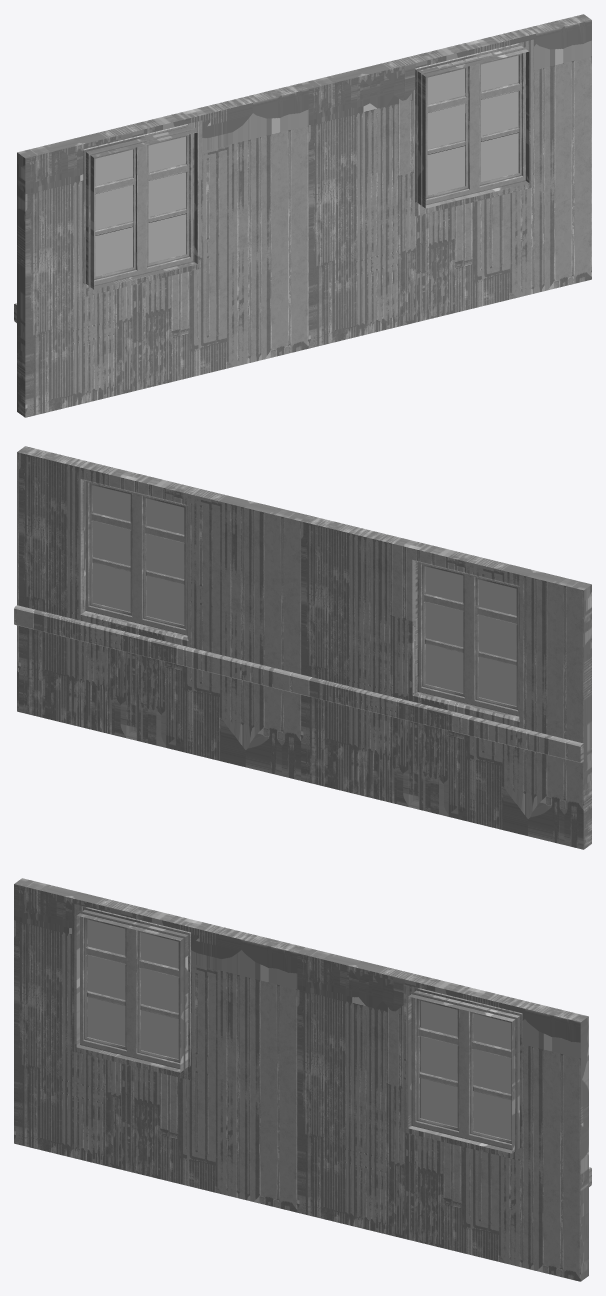
Rendered from SM_Building03_Wall01R.fbx.
3 renders of one model, top to bottom at view 1: azimuth 30°, elevation 25°; view 2: azimuth 150°, elevation 25°; view 3: azimuth 330°, elevation 25°, orthographic.
Visible parts, largest first — view 1: SM_Building03_Wall01R_LOD0; view 2: SM_Building03_Wall01R_LOD0; view 3: SM_Building03_Wall01R_LOD0.
Part boxes in pixels (bbox=[...]): SM_Building03_Wall01R_LOD0: bbox=[14, 14, 591, 417]; SM_Building03_Wall01R_LOD0: bbox=[14, 446, 591, 849]; SM_Building03_Wall01R_LOD0: bbox=[14, 878, 591, 1281].
Bounding box in the file's own units: 800 × 35.01 × 350.
